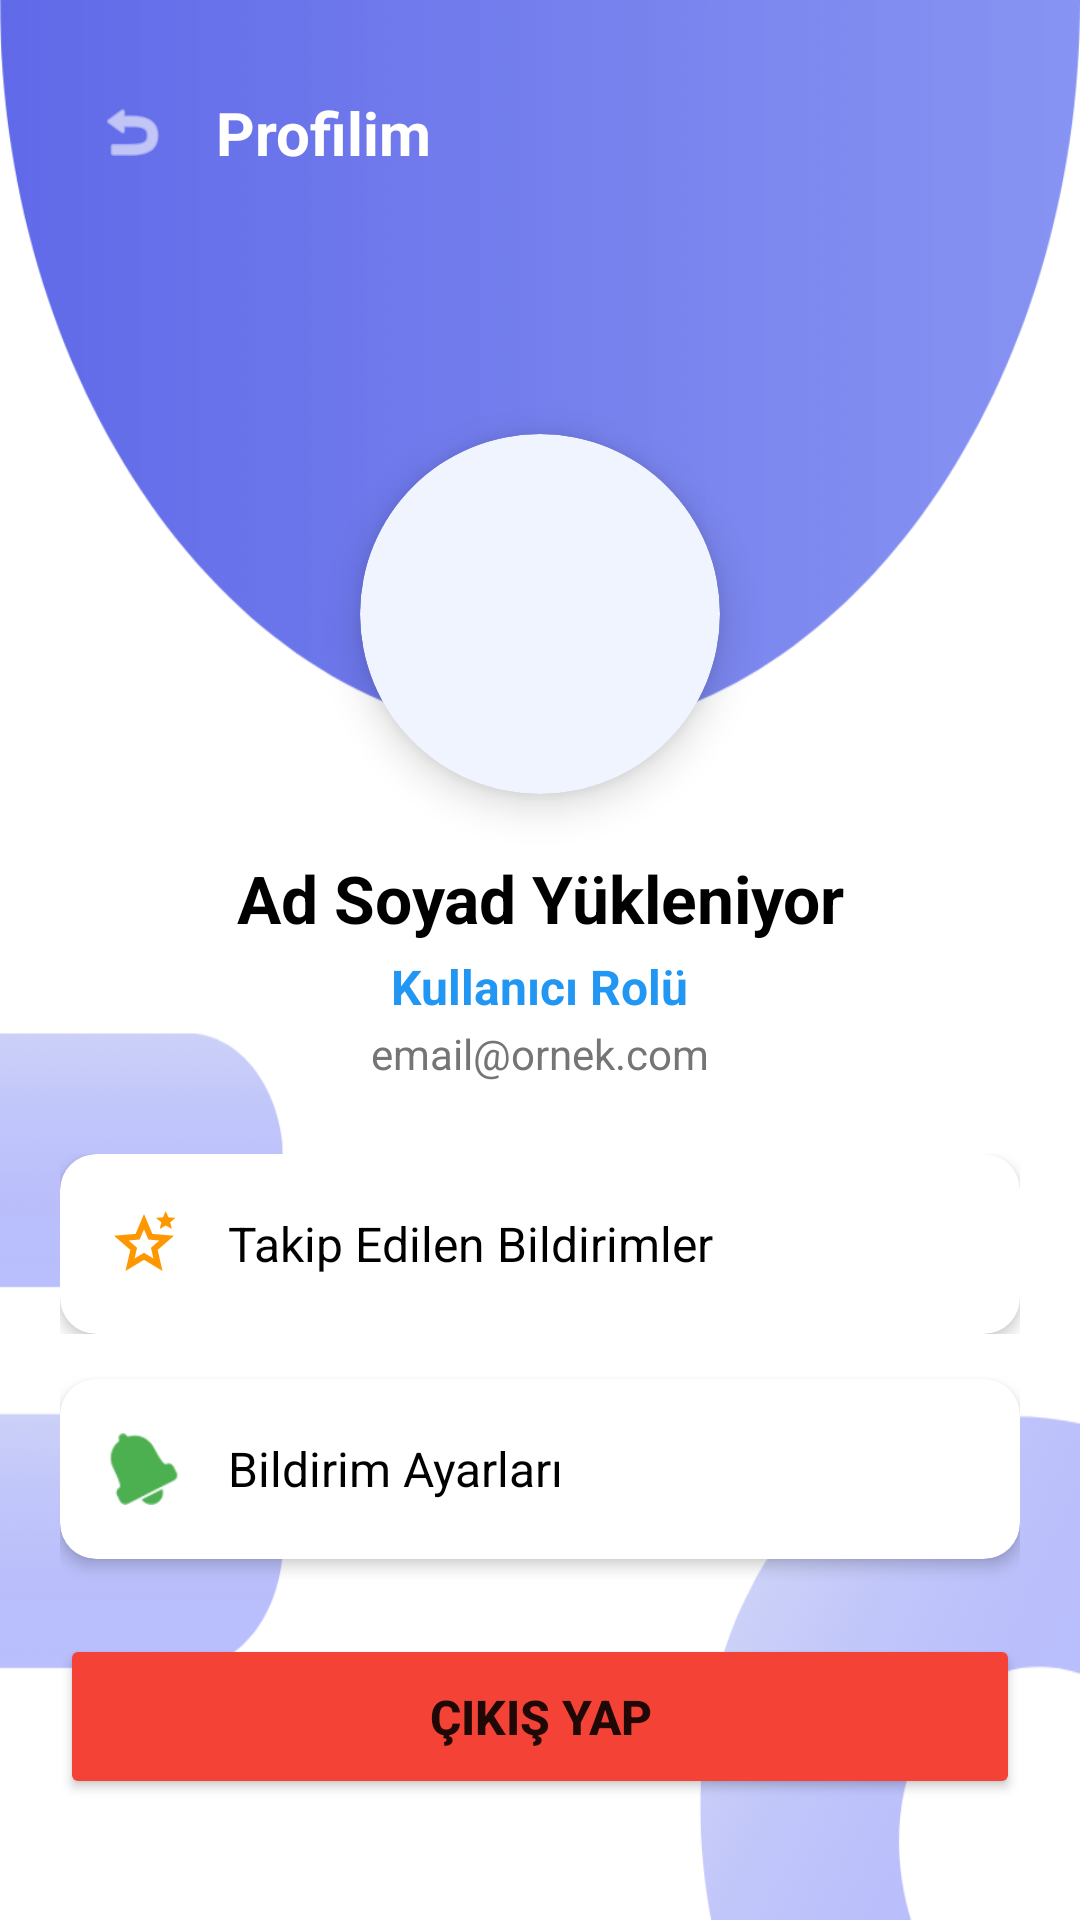

Where icons sit on this 1080px x 1920px app screen, as (x1, y1, x2, y2):
Geri Dön: (107, 109, 159, 156)
Takip İkonu: (114, 1211, 175, 1271)
